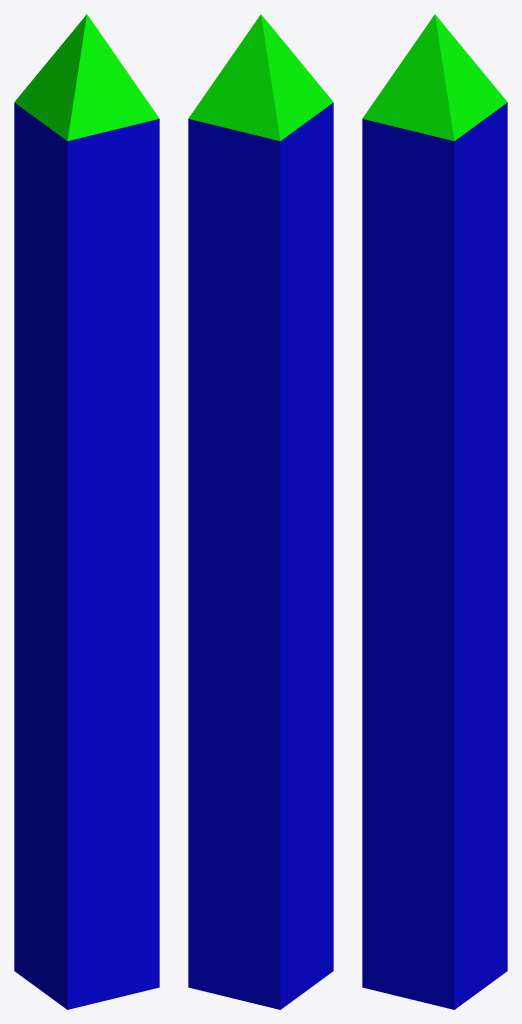
File: obelisk.fbx
3 renders of one model, left to right at view 1: azimuth 30°, elevation 25°; view 2: azimuth 150°, elevation 25°; view 3: azimuth 330°, elevation 25°, orthographic.
Visible parts, largest first — view 1: obelisk; view 2: obelisk; view 3: obelisk.
Boxes of the visible parts, <box> form: obelisk: <box>14,14,159,1009</box>; obelisk: <box>188,14,333,1009</box>; obelisk: <box>362,14,507,1009</box>.
Size of the model in its own units: 50 by 500 by 50.
